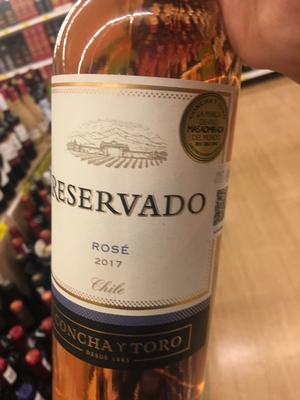reservado rose: (42, 26, 239, 393)
